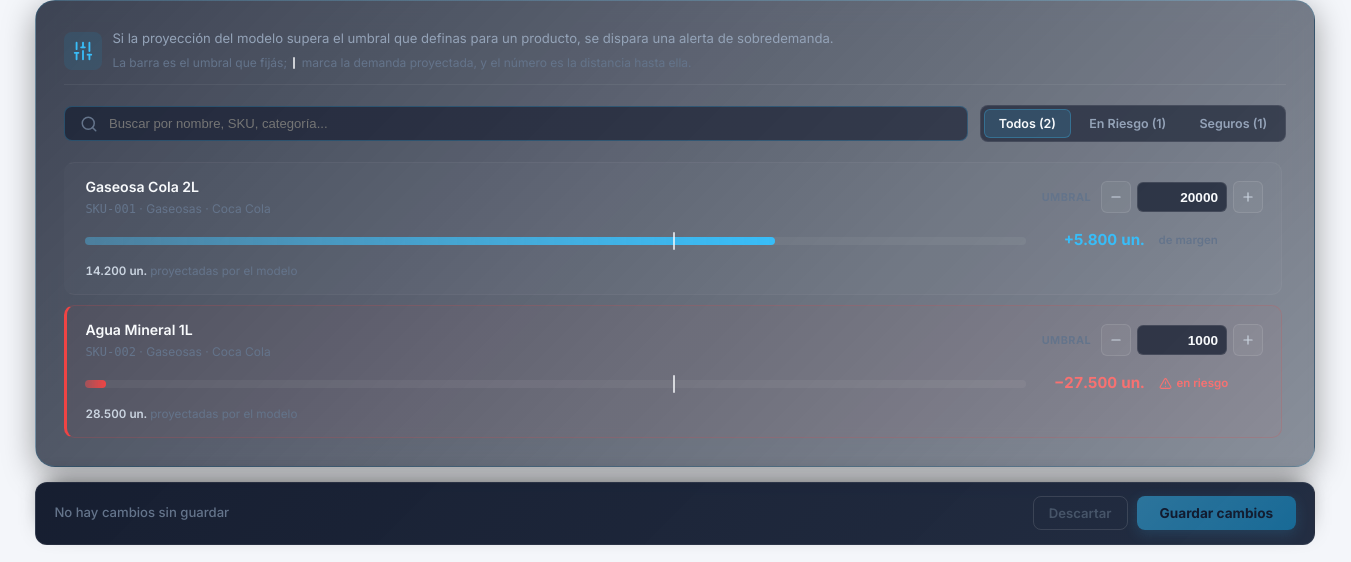
it: SettingsView › filtro por estado de riesgo › vuelve a mostrar todos los productos al elegir "Todos"
expect the text "Gaseosa Cola 2L" is shown: met, box [85,178,199,195]
Click the button "Seguros (1)".
click(1233, 124)  # box [1185,110,1282,138]
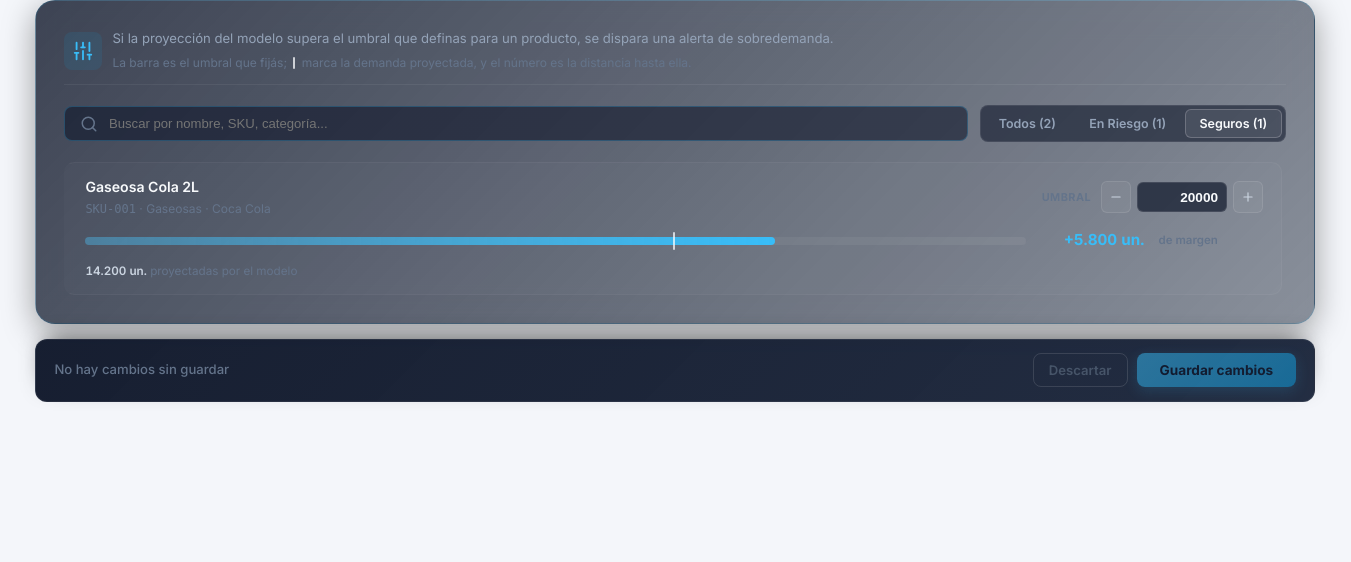
Click the button "Todos (2)".
click(1027, 124)  # box [984,110,1071,138]
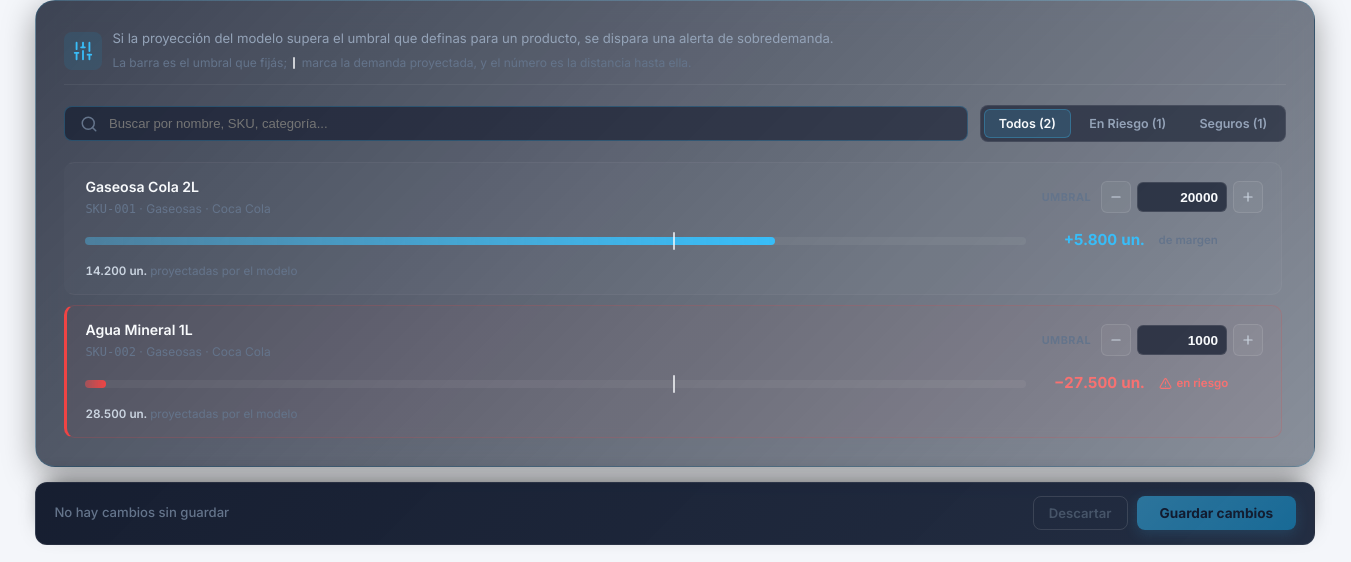
expect the text "Gaseosa Cola 2L" is shown: met, box [85,178,199,195]
expect the text "Agua Mineral 1L" is shown: met, box [85,321,193,338]
